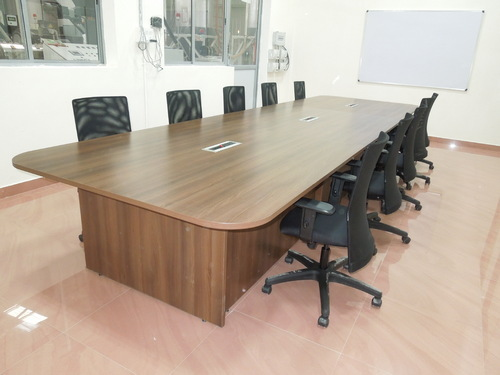conference_table: (13, 94, 420, 328)
